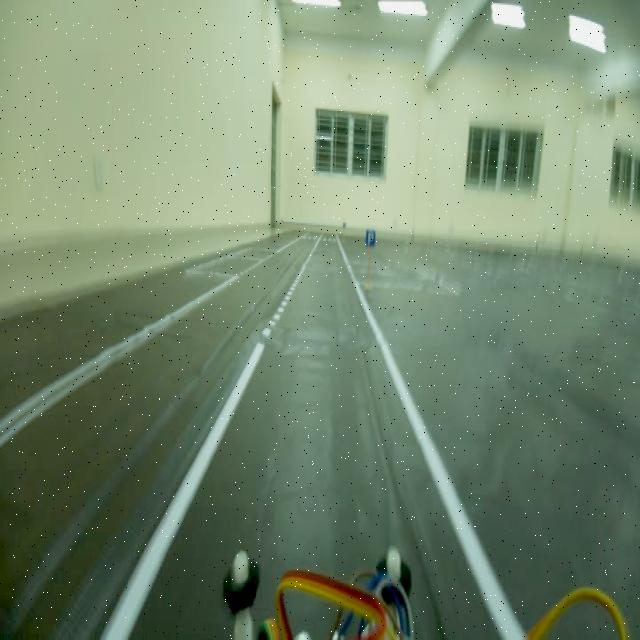parking: (362, 223, 380, 252)
